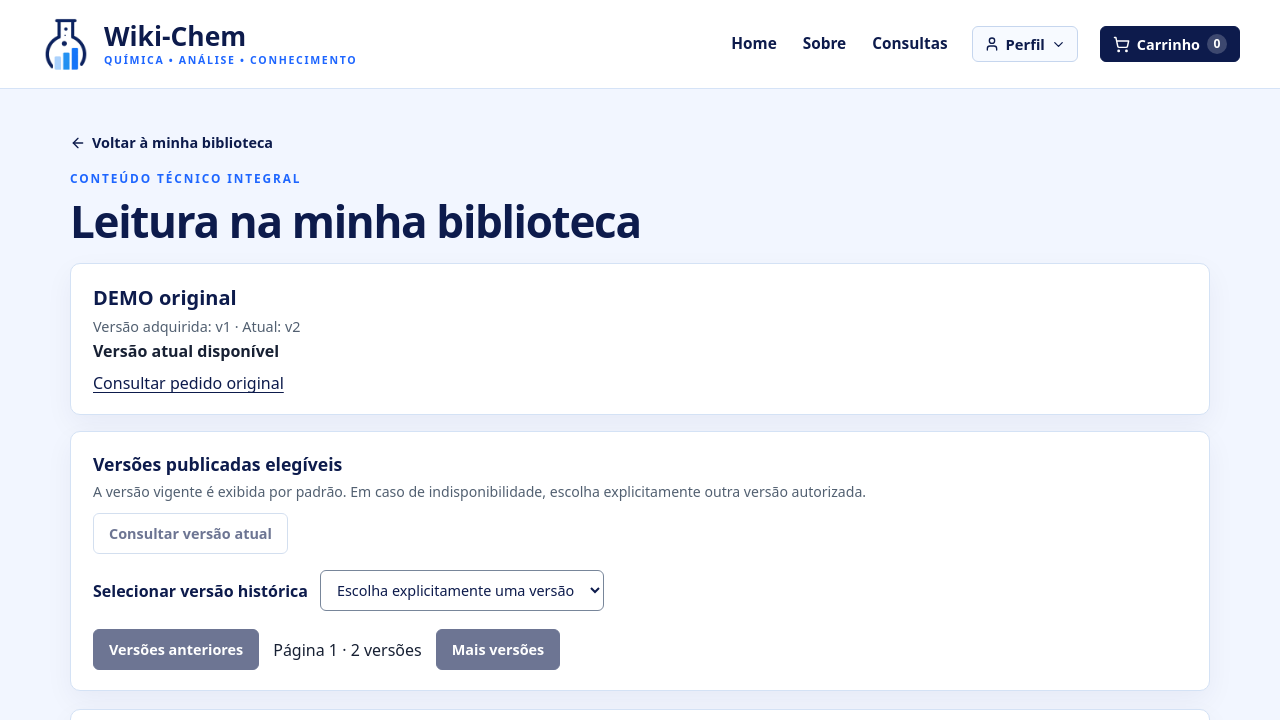
Test: biblioteca e leitura autorizada estruturada na interface › falha ao trocar versão remove o conteúdo anterior e não mostra resultado obsoleto
Select "v1 — adquirida" in the dropdown labelled "Selecionar versão histórica": (462, 591) x1=320 y1=570 x2=604 y2=611
(page scrolled)
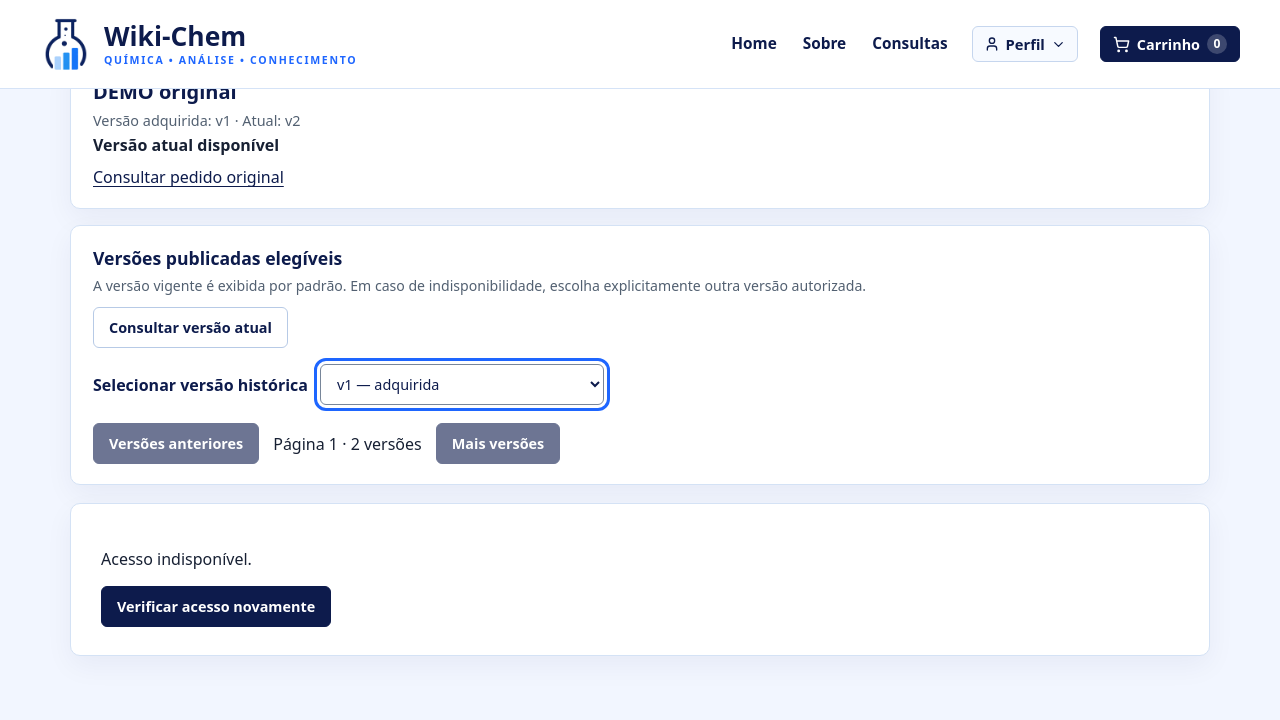
Result: the message shows "Acesso indisponível" at x1=101 y1=548 x2=252 y2=570
